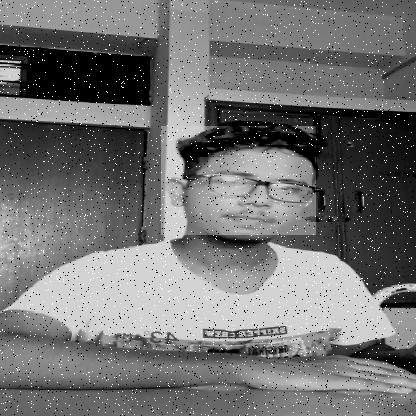Normal: (161, 126, 316, 235)
